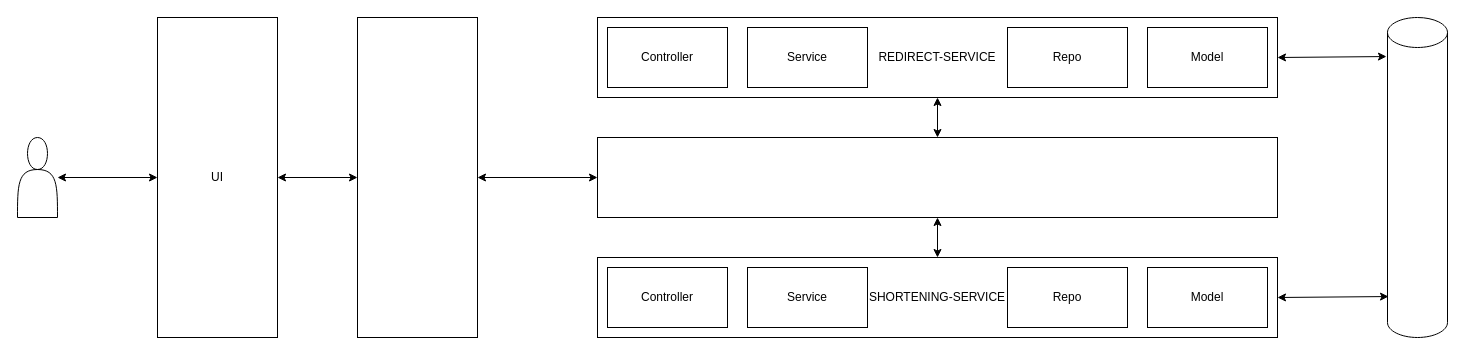
The diagram is 1465 pixels wide and 363 high, and some of its shapes have lost their labels. The centre of each missing label's shape, as x and y in pixels:
API-GATEWAY: point (417, 177)
EUREKA SEVER: point (937, 177)
Postgre SQL: point (1417, 177)
